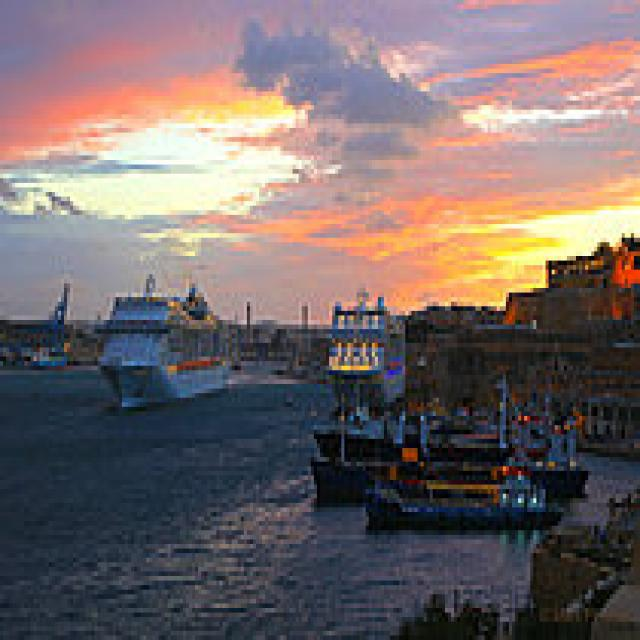Ship: (92, 262, 248, 422)
